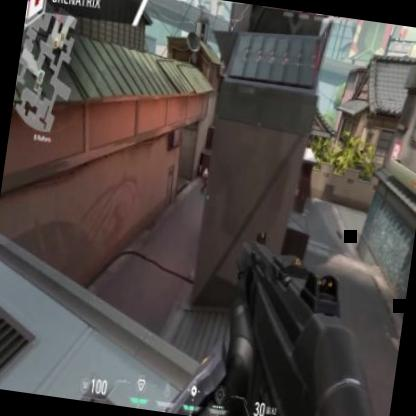enemy: (199, 164, 209, 196)
enemy_head: (204, 166, 207, 174)
